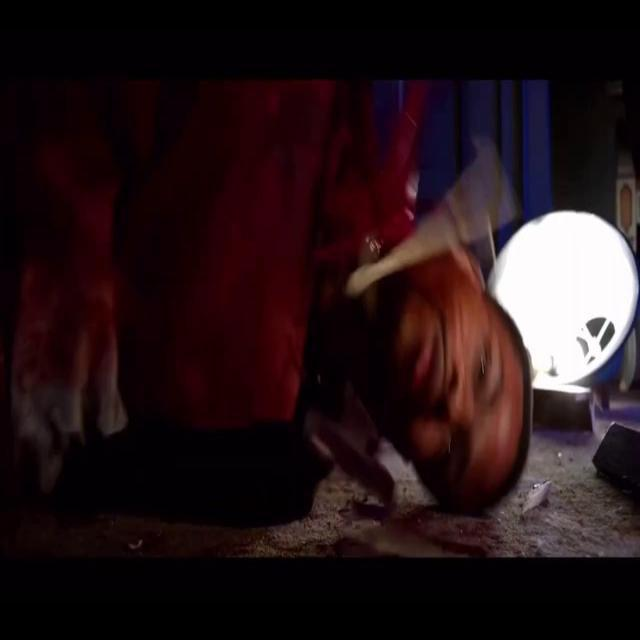flood: (84, 68, 452, 440)
